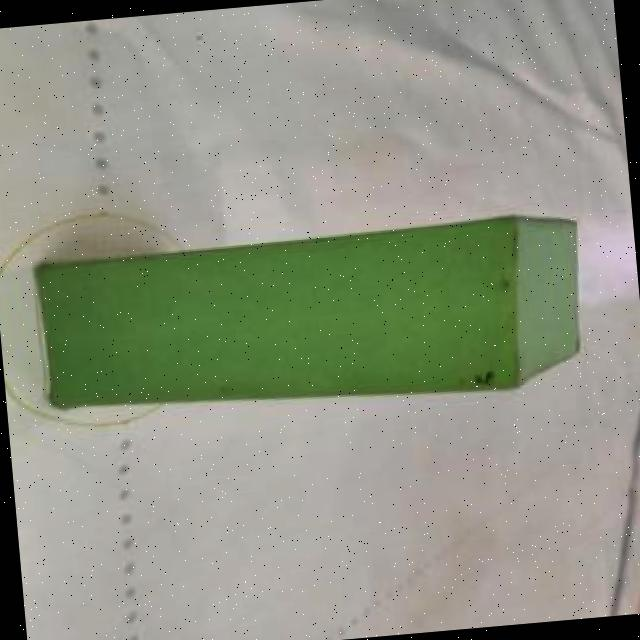greenbox: (36, 206, 592, 428)
